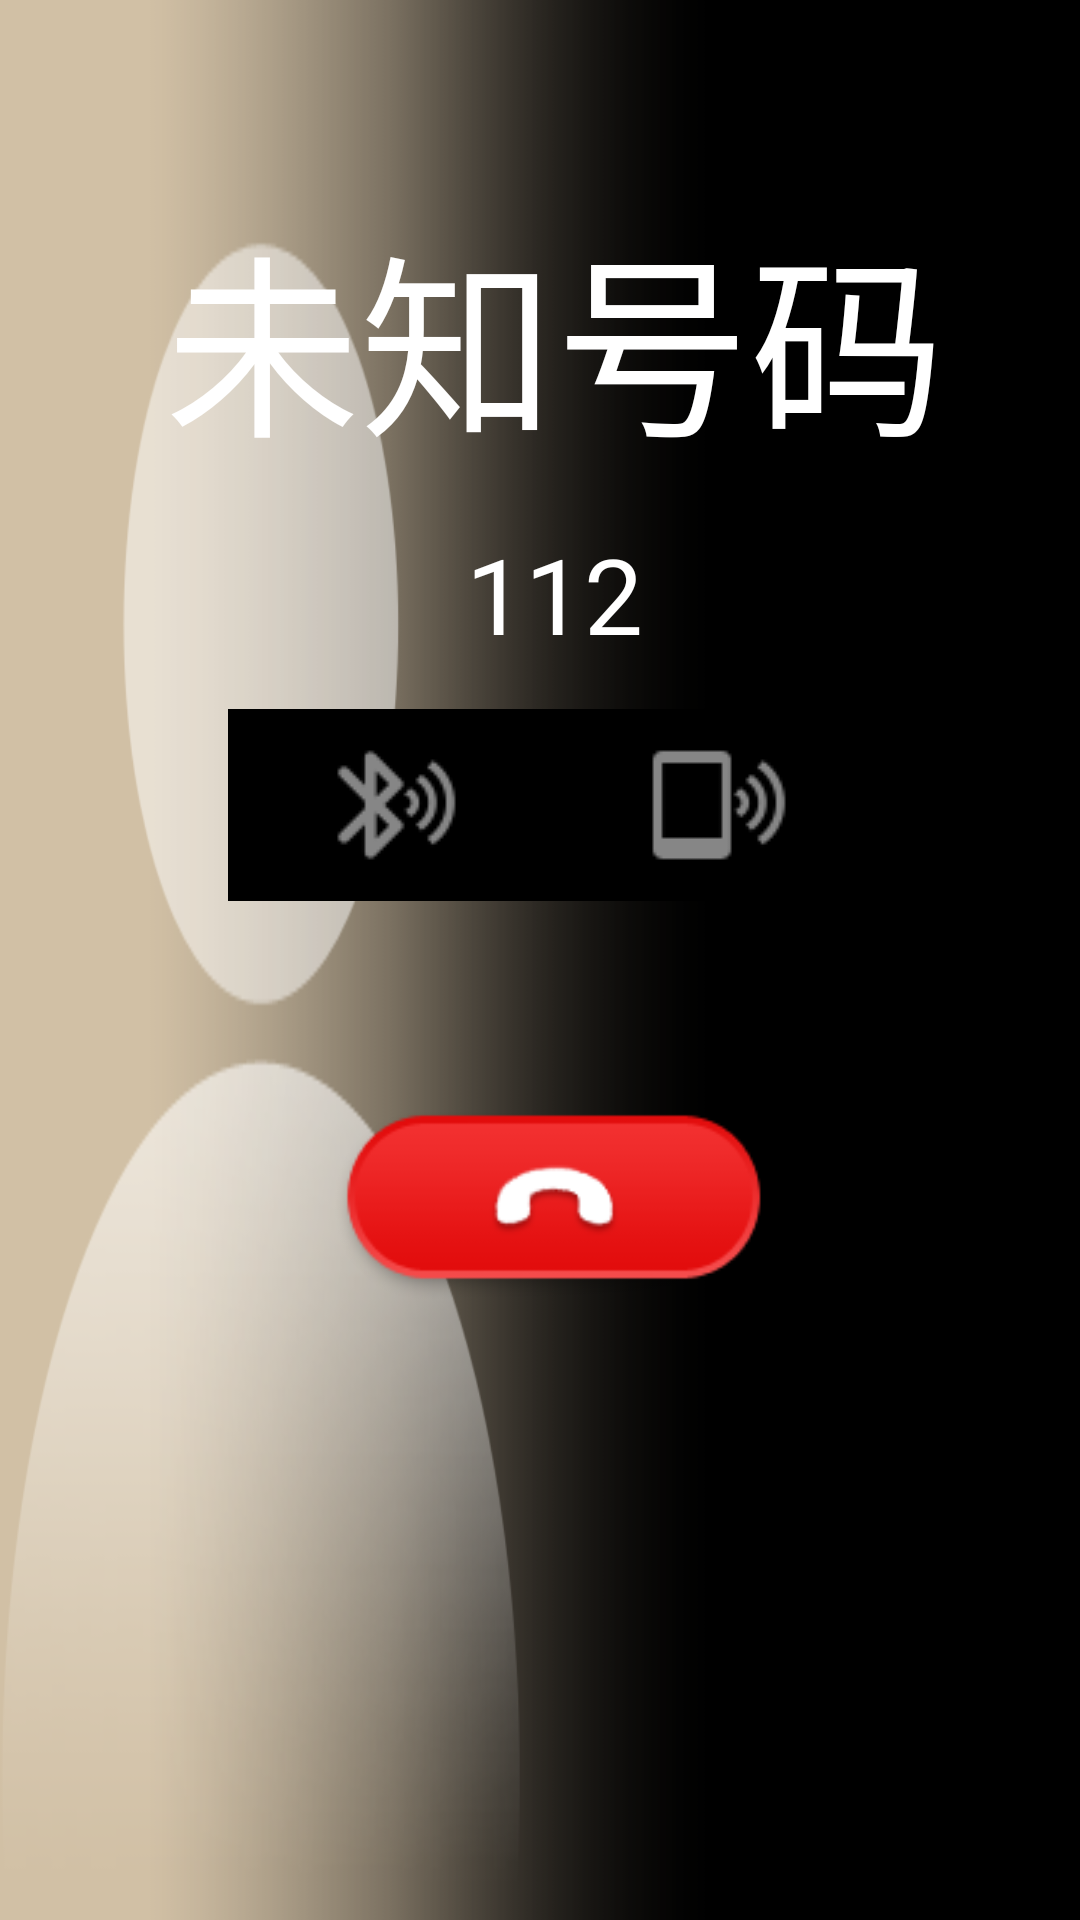

Named icons in this screenshot (1080px×1920px) and their centers, point (x, y):
transfer phone: point (719, 805)
